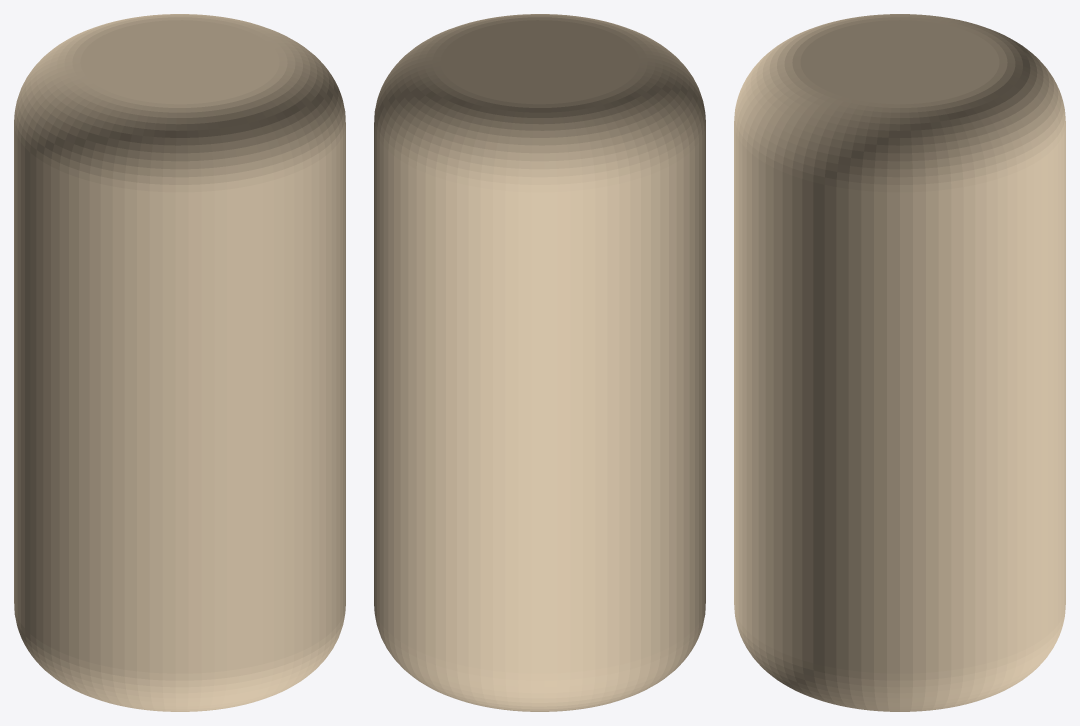
The picture shows the model from 3 angles, left to right: view 1: azimuth 30°, elevation 25°; view 2: azimuth 150°, elevation 25°; view 3: azimuth 270°, elevation 25°; orthographic projection.
Parts seen in each view (by area): view 1: Node1; view 2: Node1; view 3: Node1.
Boxes of the visible parts, box(x1,y1,x2,y2) form: Node1: box(14, 14, 345, 711); Node1: box(374, 14, 705, 711); Node1: box(734, 14, 1065, 711).
Size of the model in its own units: 3000 by 6000 by 3000.
